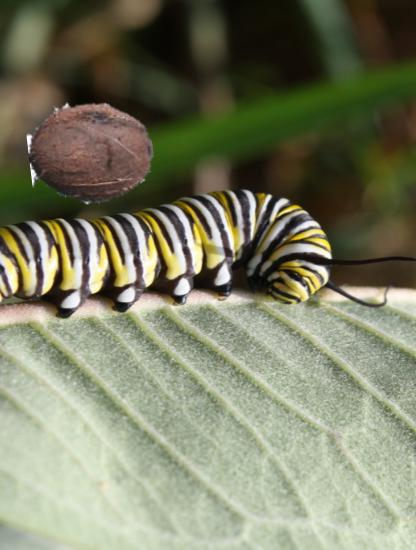Cocos: (29, 90, 153, 214)
